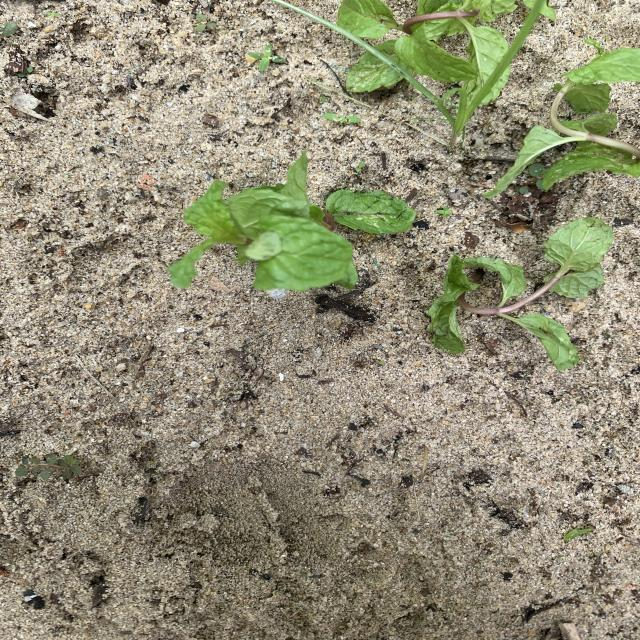crop: (172, 155, 414, 289), (428, 219, 611, 368), (485, 45, 638, 197), (336, 0, 514, 92)
weed: (275, 2, 543, 148), (15, 454, 81, 479), (247, 44, 284, 71), (195, 14, 218, 32), (322, 113, 361, 123), (436, 207, 451, 215), (355, 162, 364, 171), (45, 12, 59, 17)
